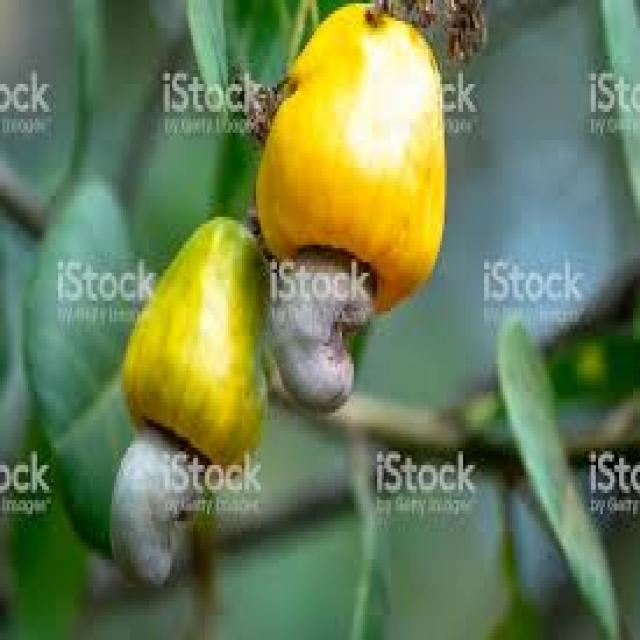Cashew: (111, 438, 215, 584), (277, 252, 371, 409)
